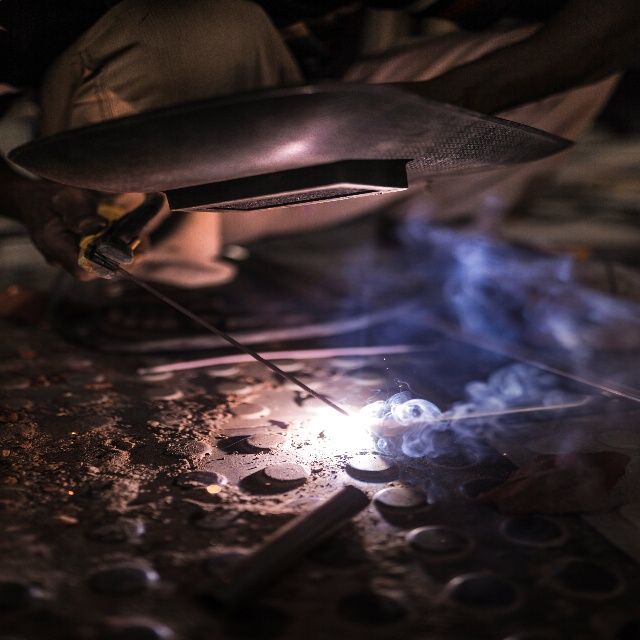Guantes: (0, 80, 254, 287)
